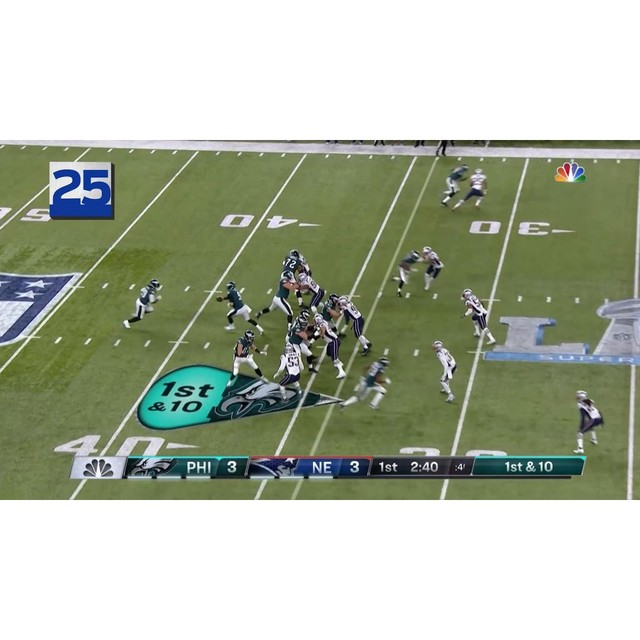american-football-player: (341, 357, 391, 411), (225, 329, 267, 390), (256, 269, 298, 327), (218, 280, 263, 333), (311, 315, 348, 379), (336, 295, 372, 355), (573, 390, 604, 454), (122, 278, 161, 328), (460, 289, 495, 344), (286, 312, 318, 371), (273, 343, 304, 398), (452, 167, 488, 212), (432, 341, 458, 402), (390, 249, 422, 298), (298, 272, 326, 317), (441, 164, 469, 207), (421, 246, 444, 291)
